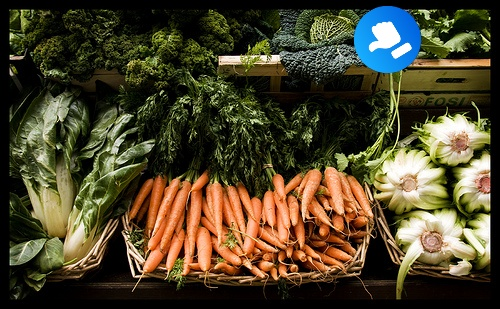like: (354, 6, 421, 73)
